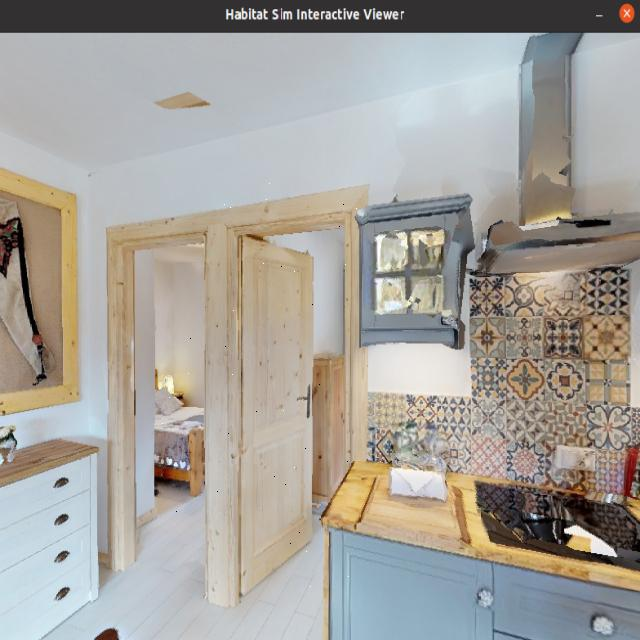door: (236, 224, 318, 580)
door-frame: (222, 182, 363, 590), (101, 218, 230, 596)
